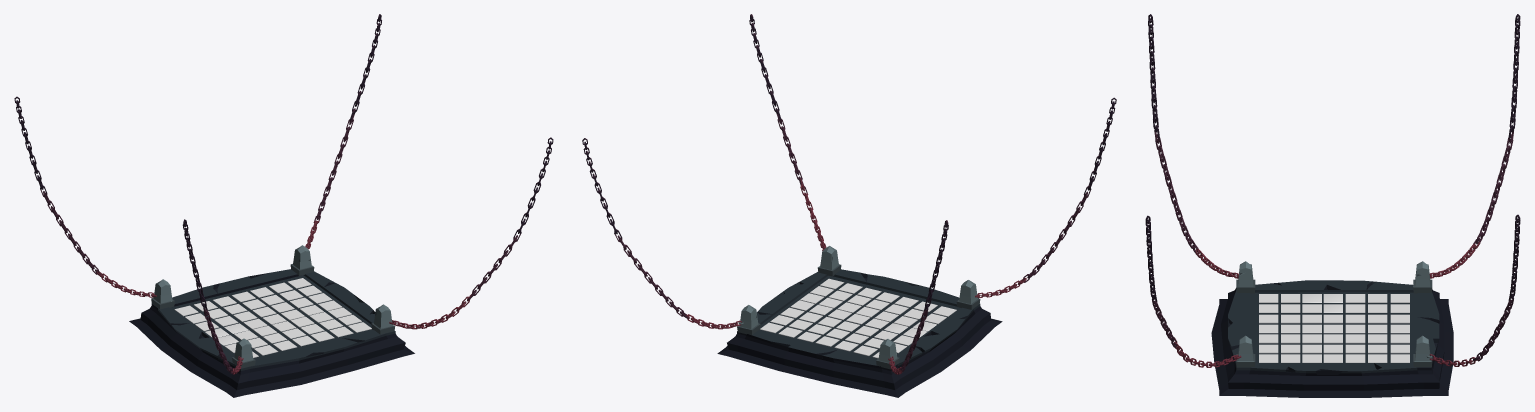
Rendered from altar new.fbx.
3 views of the same model, side by side, from view 1: azimuth 30°, elevation 25°; view 2: azimuth 150°, elevation 25°; view 3: azimuth 270°, elevation 25° (orthographic). The views are drawn at different scales.
Parts seen in each view (by area): view 1: Torus.001; view 2: Torus.001; view 3: Torus.001.
Part boxes in pixels (x1,y1,x2,y2): Torus.001: [14, 14, 553, 397]; Torus.001: [582, 14, 1116, 397]; Torus.001: [1145, 14, 1520, 397].
Size of the model in its own units: 3467 by 1986 by 2790.
